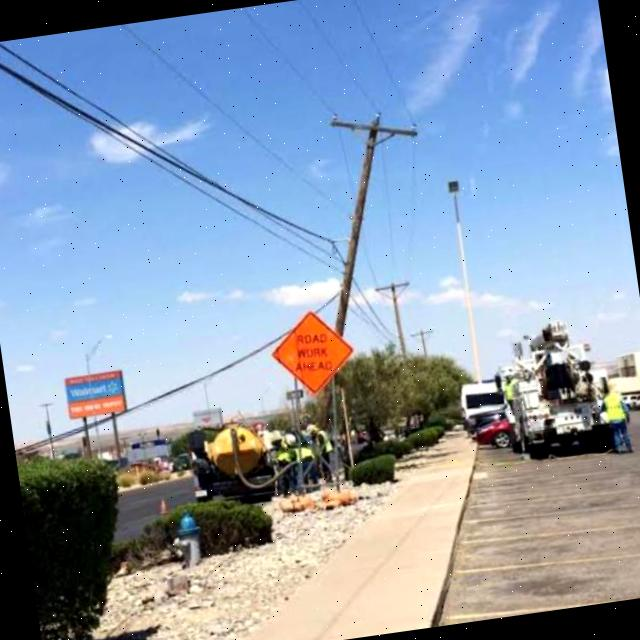Broken Pole: (310, 113, 417, 463)
